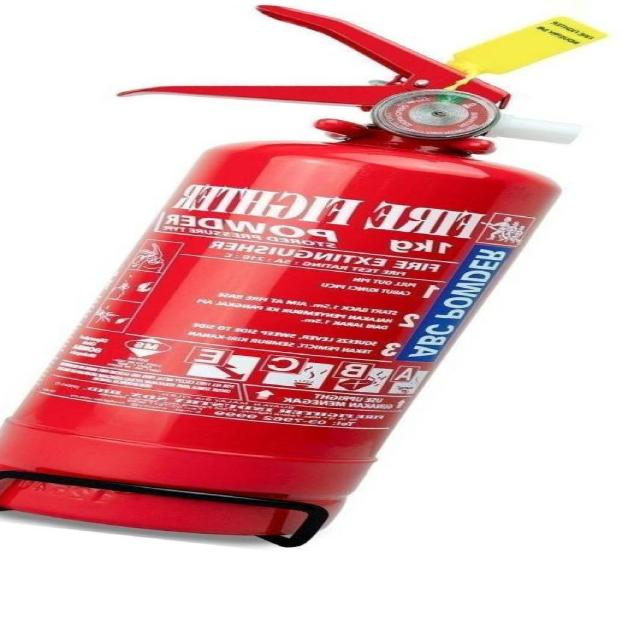fire_extinguisher: (0, 0, 614, 541)
